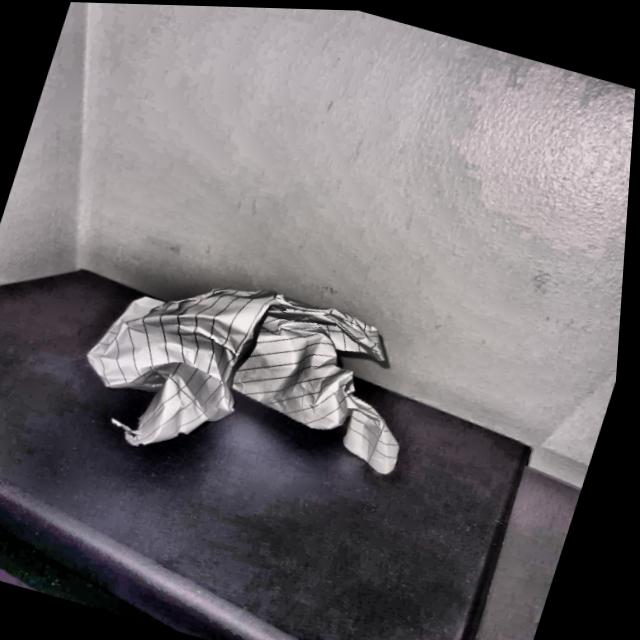Paper: (78, 254, 450, 491)
